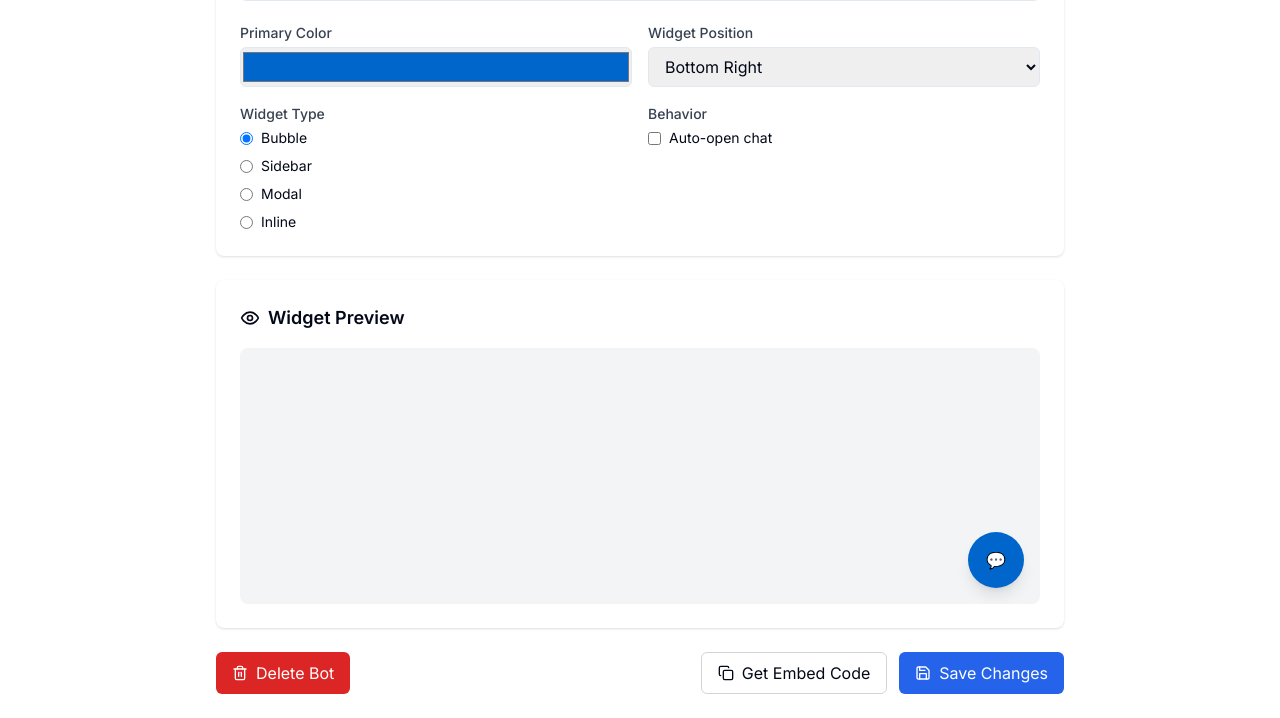
Scenario: BotConfiguration Component › should show embed code
(page scrolled)
Click the button "Get Embed Code". click: [794, 673]
box: [701,652,887,694]
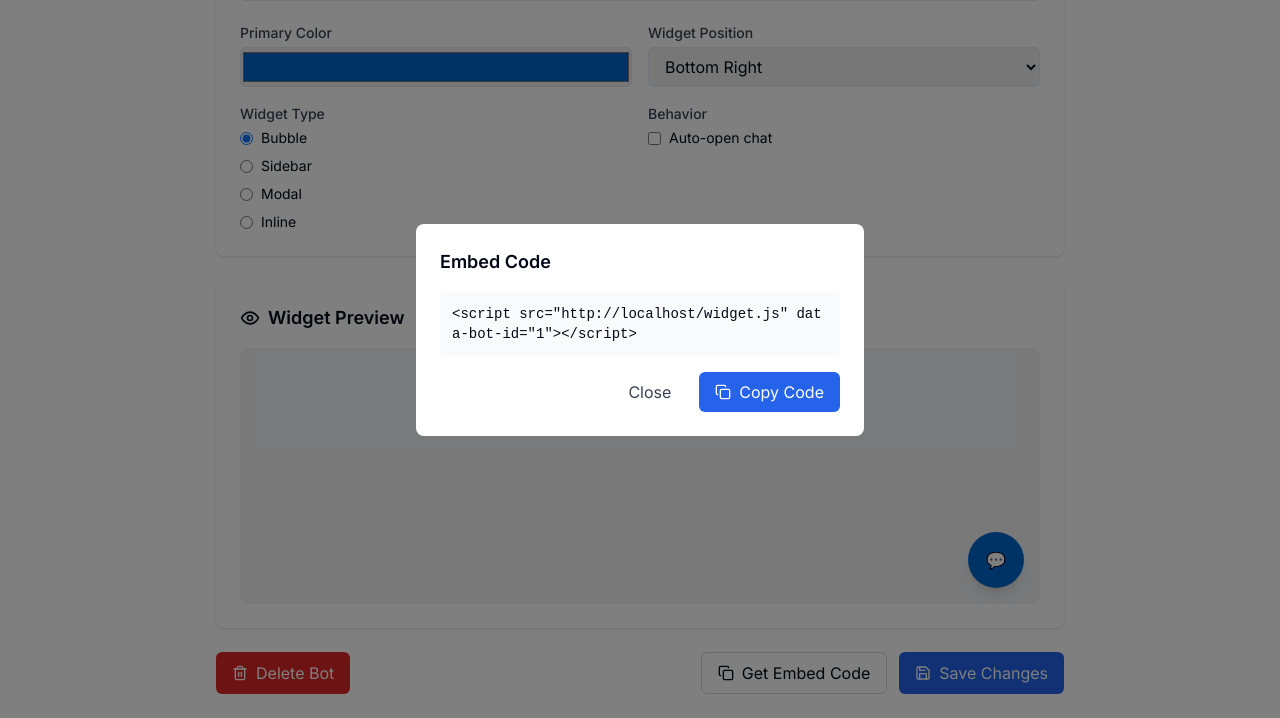
Expected: the text "1" is shown, [452,306,822,342]
